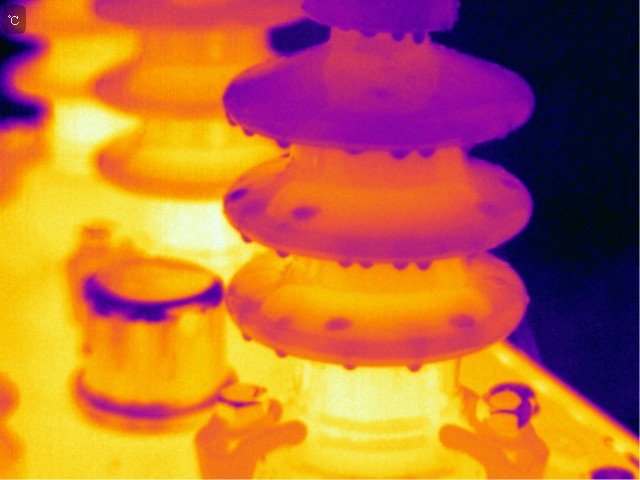Water: (478, 195, 504, 222), (387, 143, 413, 165), (324, 315, 354, 333), (421, 141, 443, 162), (234, 226, 254, 248), (413, 254, 436, 273), (455, 312, 475, 330), (388, 28, 411, 43), (220, 105, 236, 126), (293, 205, 315, 220), (343, 145, 368, 157), (357, 256, 374, 272), (393, 257, 408, 275), (229, 188, 248, 202), (360, 26, 379, 40), (273, 246, 290, 261), (412, 31, 431, 44), (274, 138, 296, 149), (334, 256, 351, 270), (271, 346, 289, 359), (406, 362, 426, 373), (340, 361, 360, 371), (239, 127, 259, 137), (240, 330, 254, 344)
